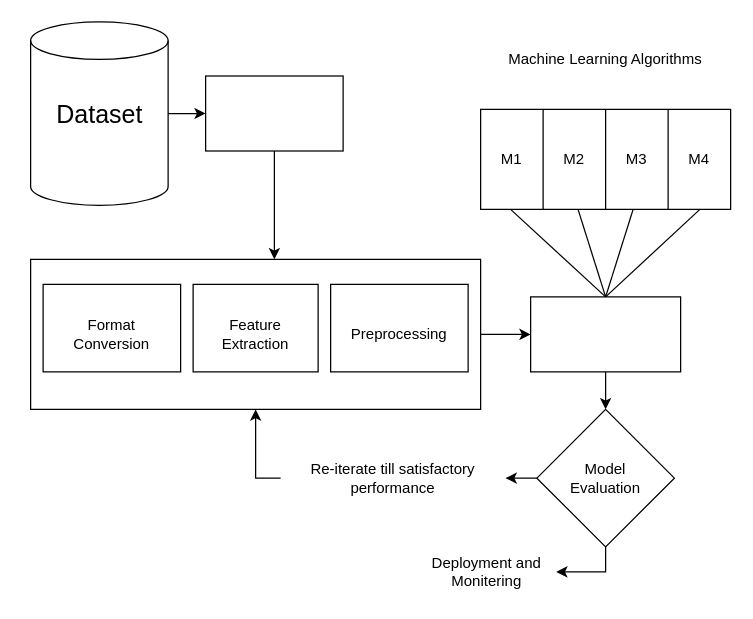
Image size: 753x619. Some labels were removed from this diagram. The shapes that lost their labels are listed below. From the top down, each one's centre as x and y in pixels, then its label:
At (273,113): "Data Retrival".
At (605,334): "Modelling".
